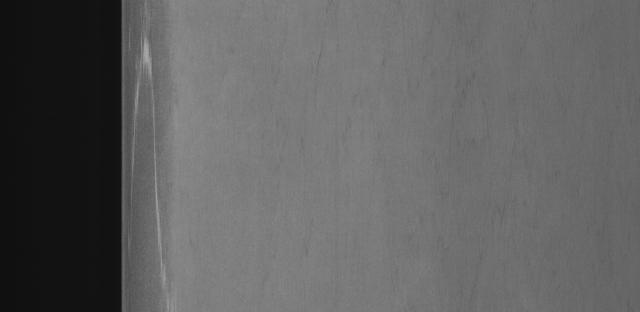silk_spot: (126, 32, 211, 311)
